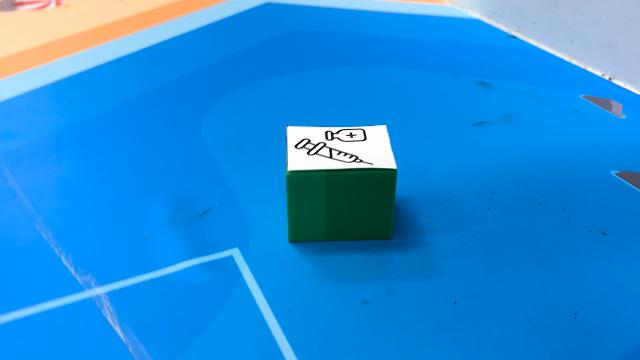syringe: (285, 124, 397, 243)
